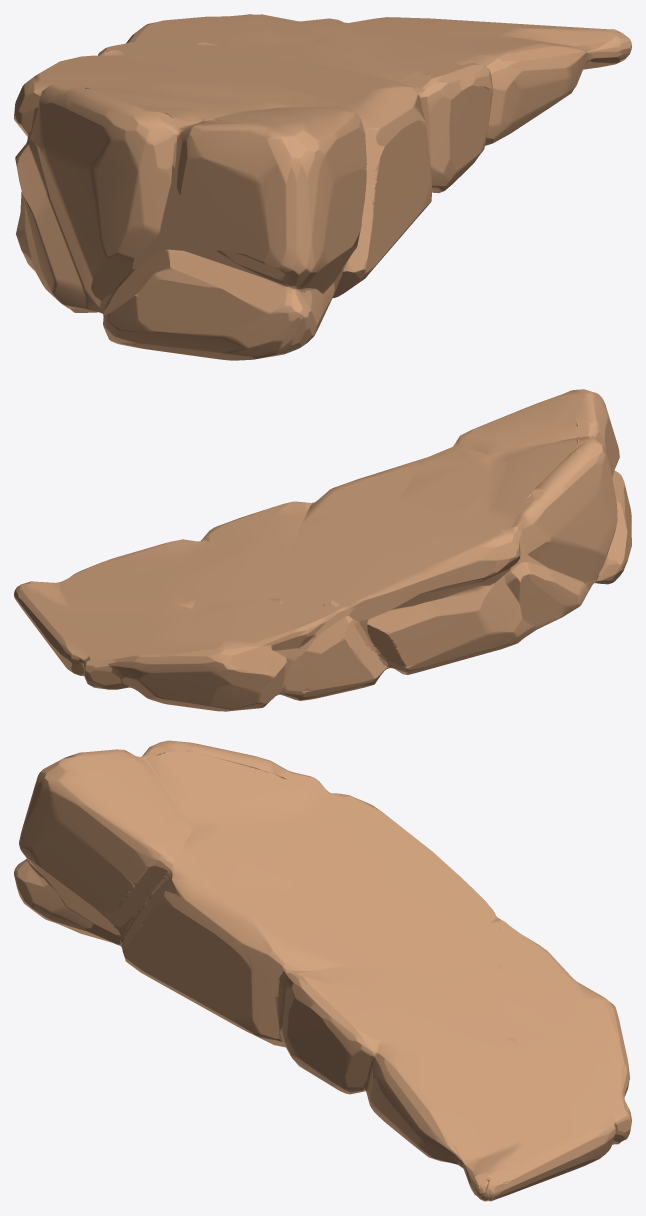
3 renders of one model, top to bottom at view 1: azimuth 30°, elevation 25°; view 2: azimuth 150°, elevation 25°; view 3: azimuth 270°, elevation 25°, orthographic. The views are drawn at different scales.
Parts seen in each view (by area): view 1: Mesh_9_LOD0; view 2: Mesh_9_LOD0; view 3: Mesh_9_LOD0.
Boxes of the visible parts, box(x1,y1,x2,y2) form: Mesh_9_LOD0: box(14, 14, 631, 360); Mesh_9_LOD0: box(14, 389, 631, 711); Mesh_9_LOD0: box(14, 740, 631, 1201).
Size of what is drawn, in the model's own units: 3237 by 1300 by 3075.
